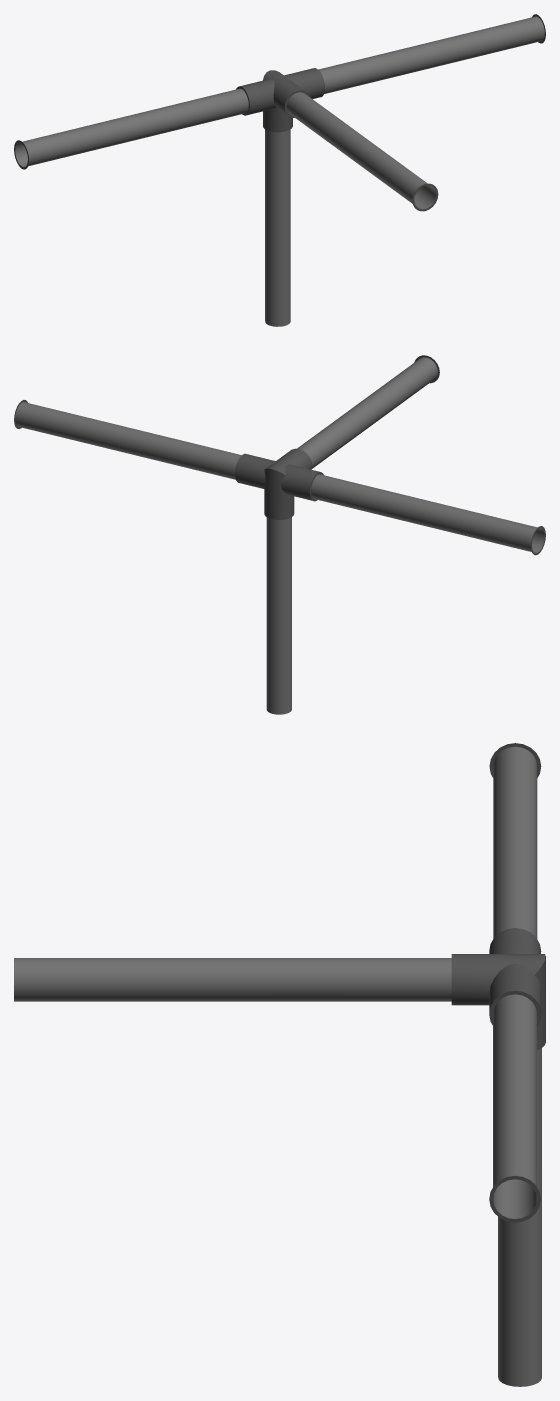
The model's file is Tri_Pole.fbx.
The picture shows the model from 3 angles, top to bottom: view 1: azimuth 30°, elevation 25°; view 2: azimuth 150°, elevation 25°; view 3: azimuth 270°, elevation 25°; orthographic projection. The views are drawn at different scales.
Visible parts, largest first — view 1: polySurface30; view 2: polySurface30; view 3: polySurface30.
Boxes of the visible parts, <box> form: polySurface30: <box>14,14,545,326</box>; polySurface30: <box>14,355,545,714</box>; polySurface30: <box>14,743,545,1386</box>.
Bounding box in the file's own units: 256 × 116 × 133.
